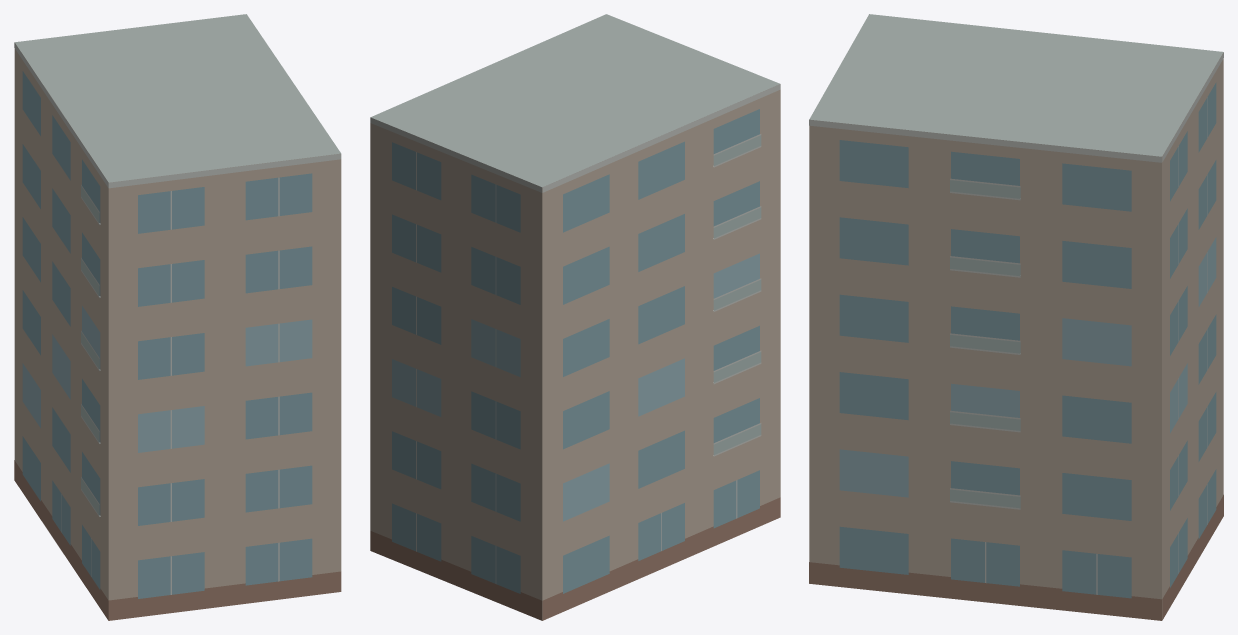
File: survey-upis-32689470.glb
3 renders of one model, left to right at view 1: azimuth 30°, elevation 25°; view 2: azimuth 150°, elevation 25°; view 3: azimuth 270°, elevation 25°, orthographic. The views are drawn at different scales.
Parts seen in each view (by area): view 1: survey-upis-32689470.tmp; view 2: survey-upis-32689470.tmp; view 3: survey-upis-32689470.tmp.
Part boxes in pixels (x1,y1,x2,y2): survey-upis-32689470.tmp: [14, 14, 341, 620]; survey-upis-32689470.tmp: [370, 14, 780, 620]; survey-upis-32689470.tmp: [809, 14, 1223, 620].
Size of the model in its own units: 12.32 by 18.65 by 15.11.
